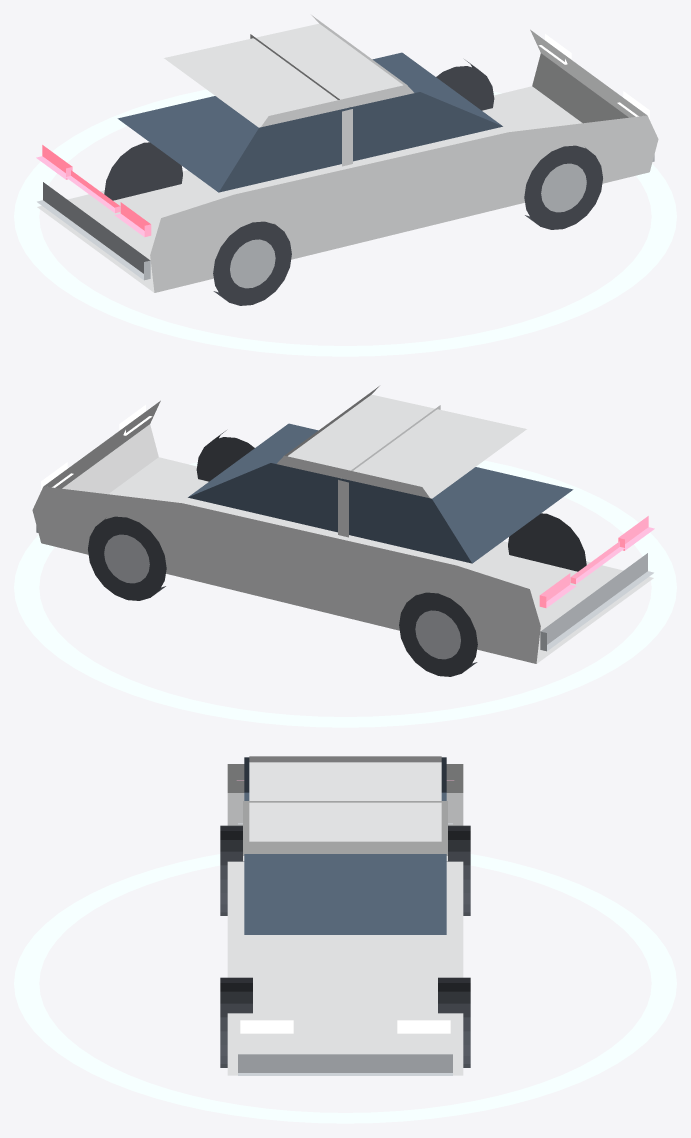
File: car.glb
The picture shows the model from 3 angles, top to bottom: view 1: azimuth 30°, elevation 25°; view 2: azimuth 150°, elevation 25°; view 3: azimuth 270°, elevation 25°; orthographic projection.
Visible parts, largest first — view 1: novanav_car; view 2: novanav_car; view 3: novanav_car.
Part boxes in pixels (left/top/right/bottom): novanav_car: left=14, top=15, right=676, bottom=356; novanav_car: left=14, top=386, right=676, bottom=727; novanav_car: left=14, top=756, right=676, bottom=1123.
Size of the model in its own units: 5.24 by 1.49 by 5.24.
